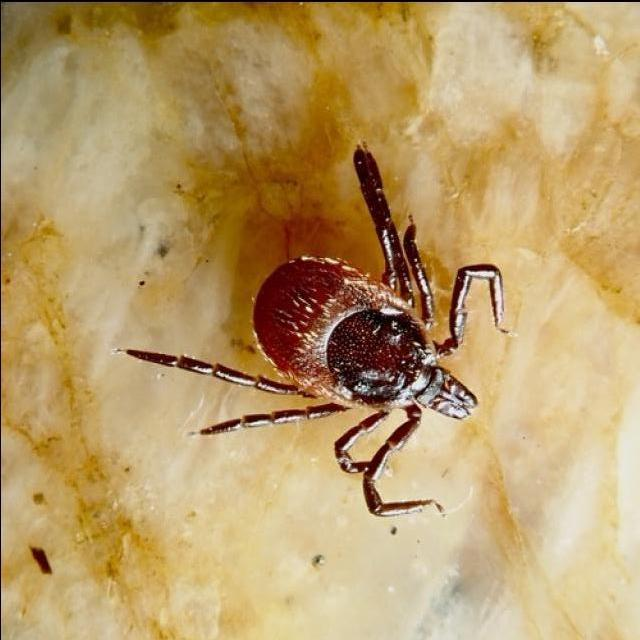Ixodes Ricinus-F: (127, 142, 508, 516)
